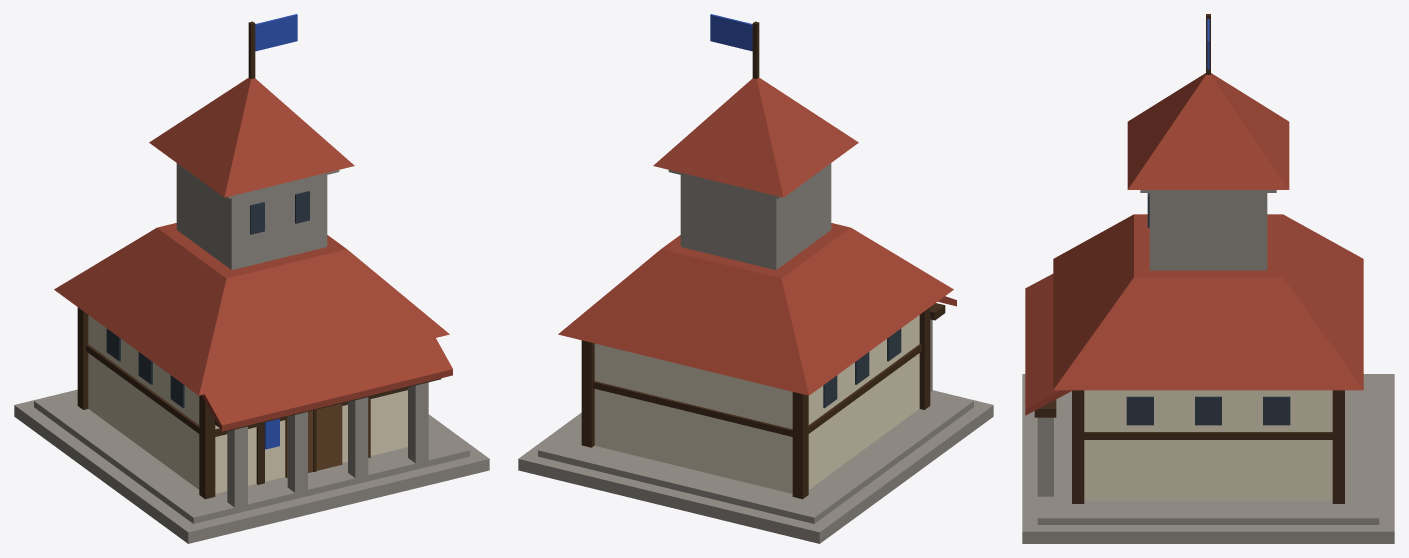
Rendered from town_center.obj.
3 views of the same model, side by side, from view 1: azimuth 30°, elevation 25°; view 2: azimuth 150°, elevation 25°; view 3: azimuth 270°, elevation 25° (orthographic). The views are drawn at different scales.
Parts seen in each view (by area): view 1: Roof, Platform, Porch, Hall, TowerRoof, Tower, Timber, Door, Flag, Windows; view 2: Roof, Hall, Platform, TowerRoof, Tower, Timber, Flag, Windows; view 3: Roof, Platform, Hall, TowerRoof, Tower, Porch, Timber, Windows.
Part boxes in pixels (box(x1,y1,x2,y2)): Roof: box(54, 223, 449, 395); Platform: box(14, 389, 489, 543); Porch: box(201, 338, 452, 507); Hall: box(88, 315, 407, 493); TowerRoof: box(149, 77, 354, 197); Tower: box(176, 163, 339, 269); Timber: box(77, 307, 407, 499); Door: box(285, 403, 342, 477); Flag: box(248, 14, 297, 449); Windows: box(106, 328, 184, 408); Roof: box(558, 223, 953, 395); Hall: box(594, 315, 919, 493); Platform: box(518, 390, 993, 543); TowerRoof: box(653, 77, 858, 197); Tower: box(668, 163, 831, 269); Timber: box(581, 307, 930, 499); Flag: box(710, 14, 759, 78); Windows: box(823, 328, 901, 408); Roof: box(1053, 214, 1363, 390); Platform: box(1022, 374, 1394, 543); Hall: box(1084, 390, 1332, 501); TowerRoof: box(1127, 73, 1289, 189); Tower: box(1140, 190, 1276, 270); Porch: box(1025, 274, 1072, 496); Timber: box(1072, 390, 1344, 503); Windows: box(1126, 396, 1290, 425).
Bounding box in the file's own units: 6 × 8 × 6.
